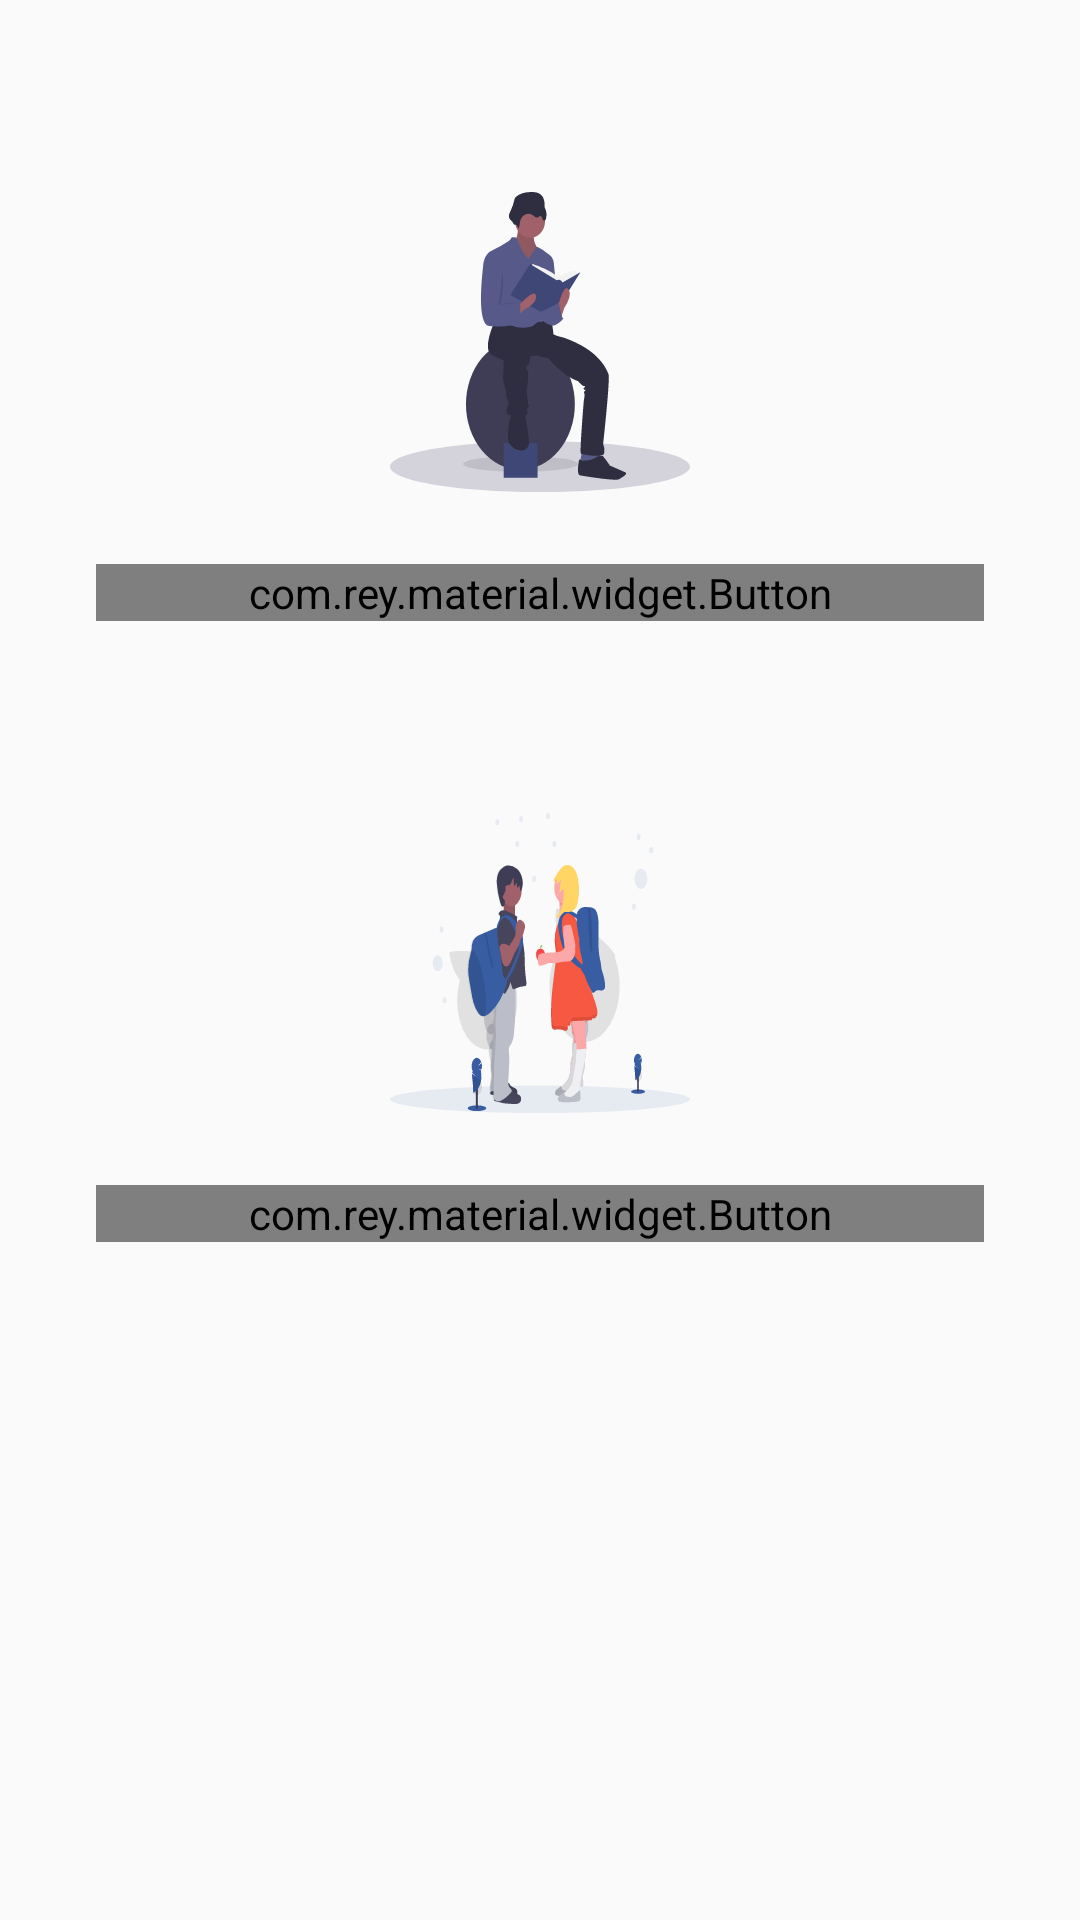

Named icons in this screenshot (1080px×1920px) and their bounding boxes, box=[x1, y1, x2, y2]:
undraw true friends: box=[450, 865, 645, 1111]
